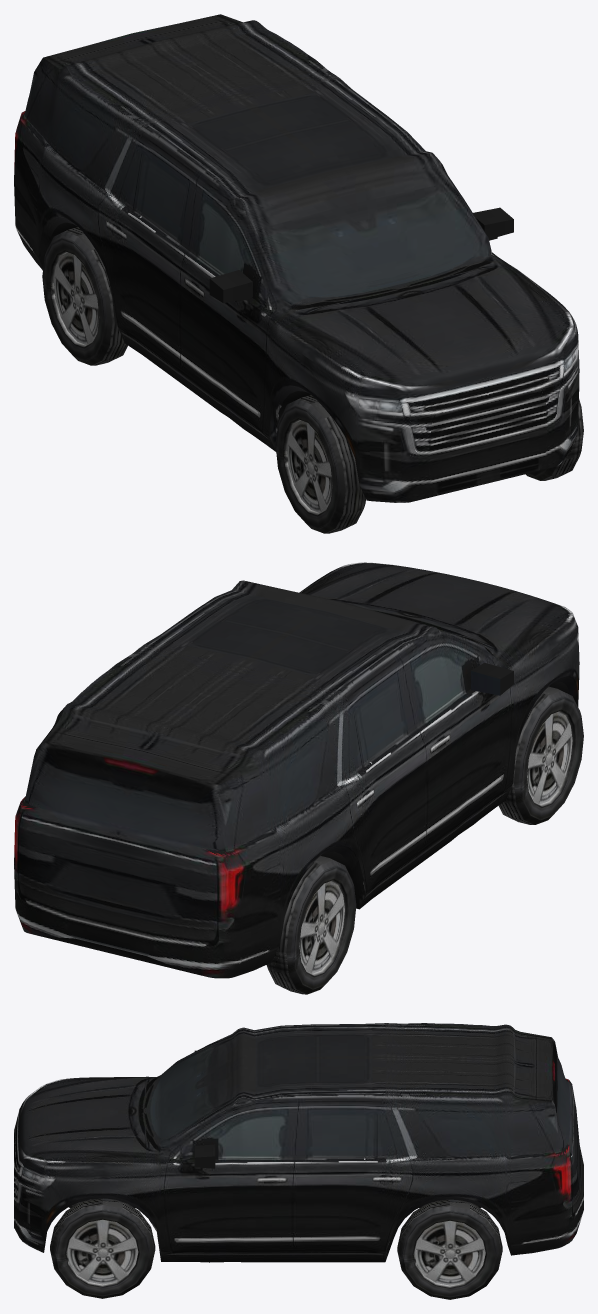
Rendered from suv2.glb.
The picture shows the model from 3 angles, top to bottom: view 1: azimuth 30°, elevation 25°; view 2: azimuth 150°, elevation 25°; view 3: azimuth 270°, elevation 25°; orthographic projection. The views are drawn at different scales.
Visible parts, largest first — view 1: body, wheel-front-right, wheel-back-right, wheel-front-left; view 2: body, wheel-back-right, wheel-front-right; view 3: body, wheel-front-left, wheel-back-left.
Part boxes in pixels (x1,y1,x2,y2): body: [14, 14, 579, 502]; wheel-front-right: [275, 395, 365, 533]; wheel-back-right: [42, 227, 127, 365]; wheel-front-left: [526, 399, 583, 480]; body: [14, 562, 579, 978]; wheel-back-right: [266, 856, 356, 994]; wheel-front-right: [498, 686, 583, 824]; body: [14, 1023, 583, 1262]; wheel-front-left: [50, 1198, 155, 1298]; wheel-back-left: [397, 1199, 502, 1299].
Size of the model in its own units: 2.36 by 2.04 by 5.31.
1 material, 1 textured.
